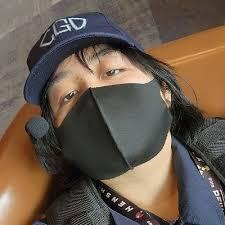cap: (17, 5, 160, 103)
mask: (55, 76, 172, 182)
